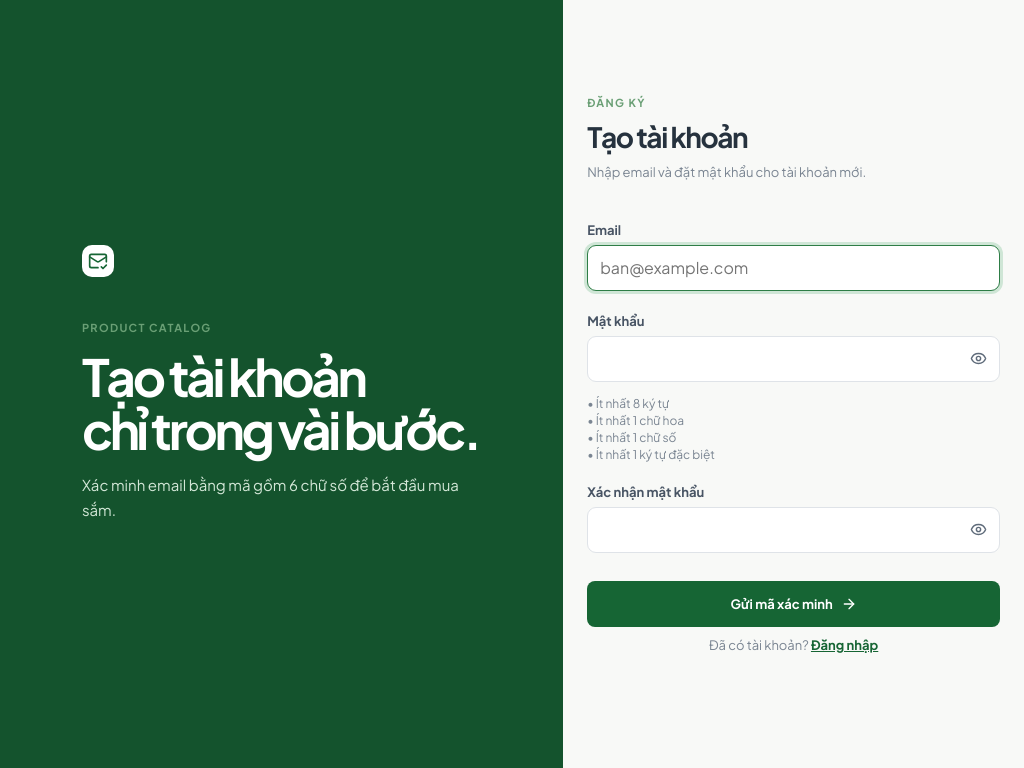
Test: RegisterPage › only accepts digits and keeps submit disabled until there are six
In the field labelled "Email": point(794, 268) [587,244,1000,290], type "new@example.com"
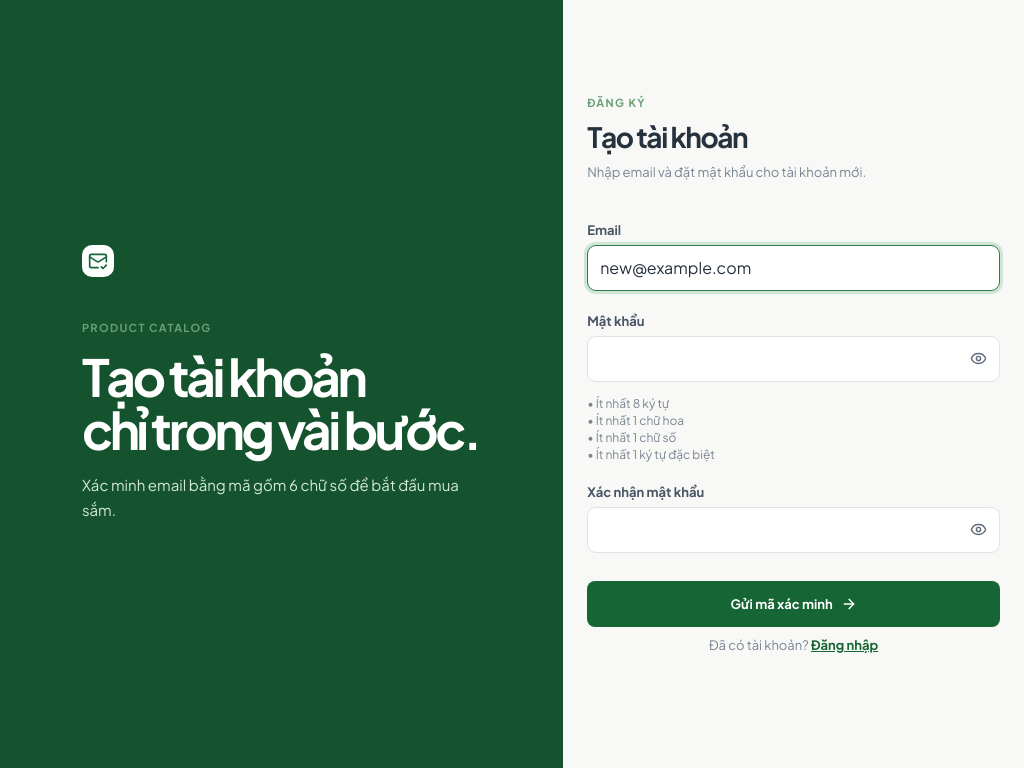
In the password field labelled "Mật khẩu": point(794, 358) [587,336,1000,382], type "Str0ng!Passw0rd"
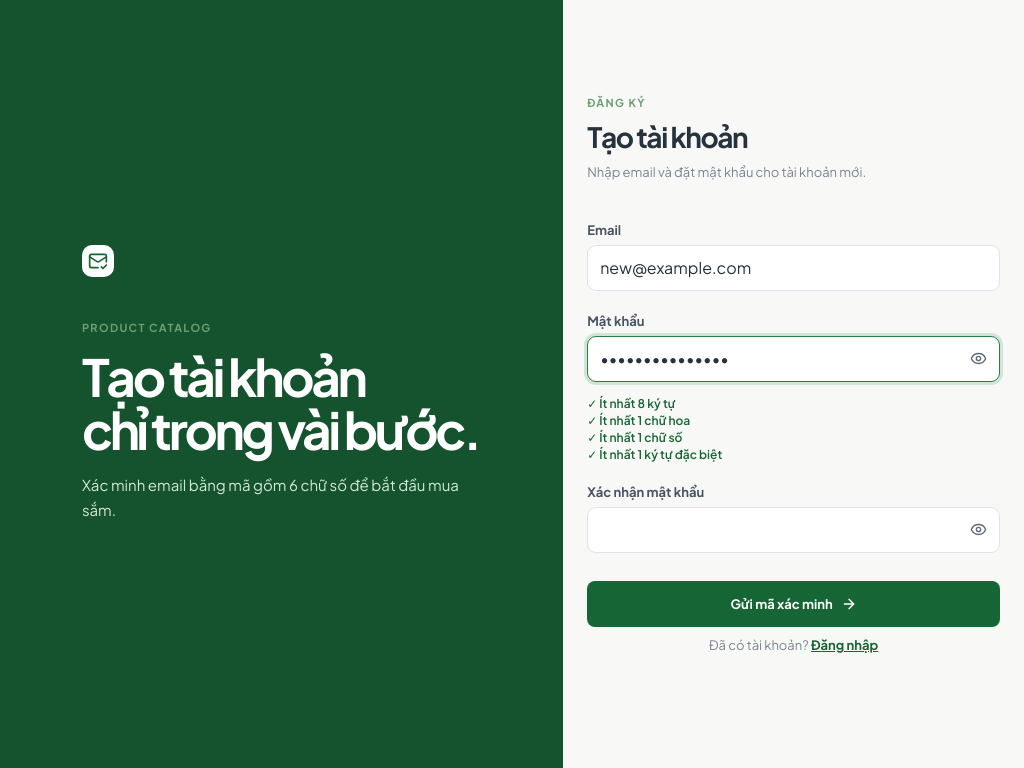
In the password field labelled "Xác nhận mật khẩu": point(794, 530) [587,506,1000,552], type "Str0ng!Passw0rd"
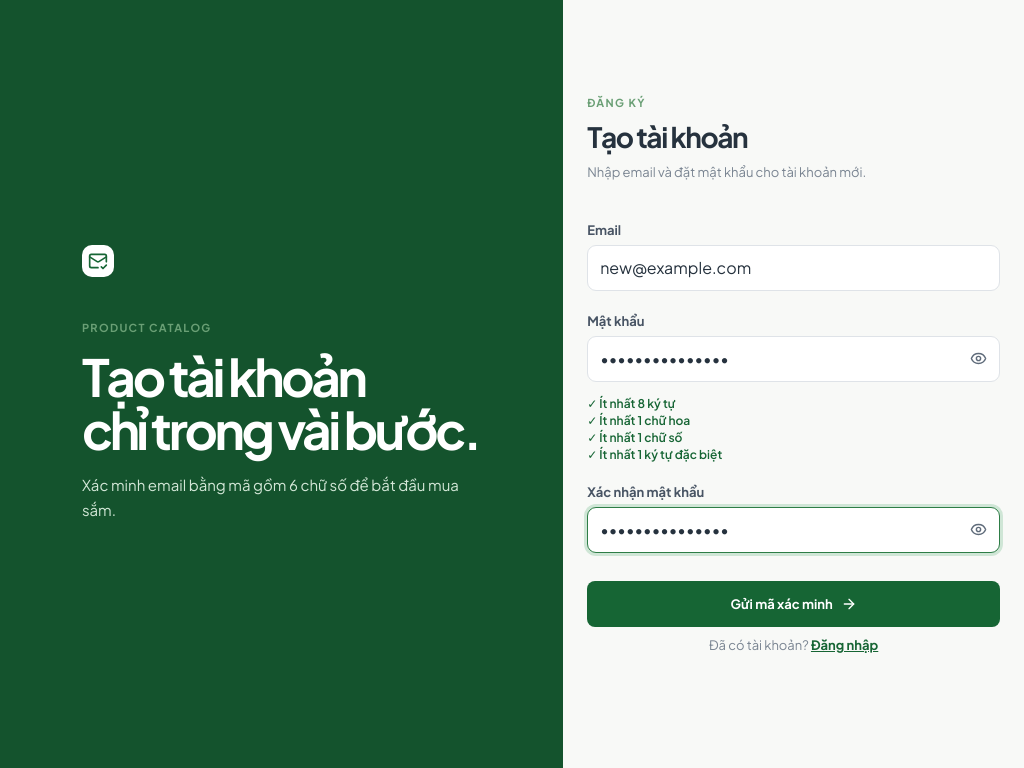
Click the button "Gửi mã xác minh": point(794, 604) [587,580,1000,626]
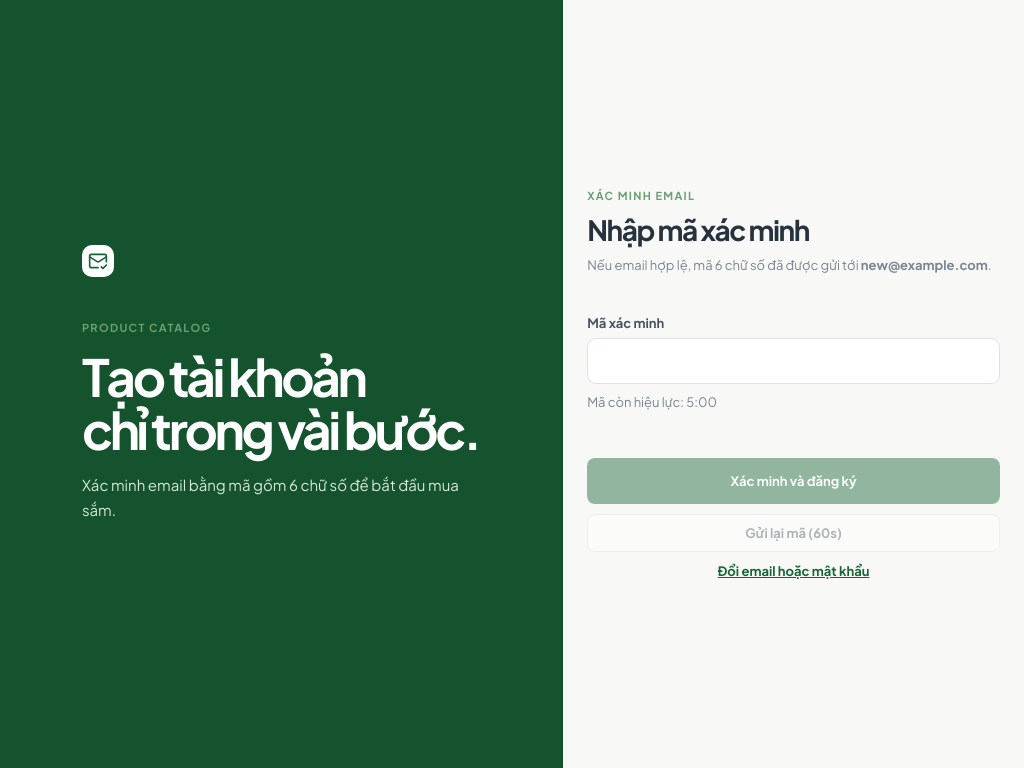
Expected: the heading "Nhập mã xác minh" is shown, [587,212,809,246]
In the field labelled "Mã xác minh": point(794, 360) [587,338,1000,384], type "12ab3"
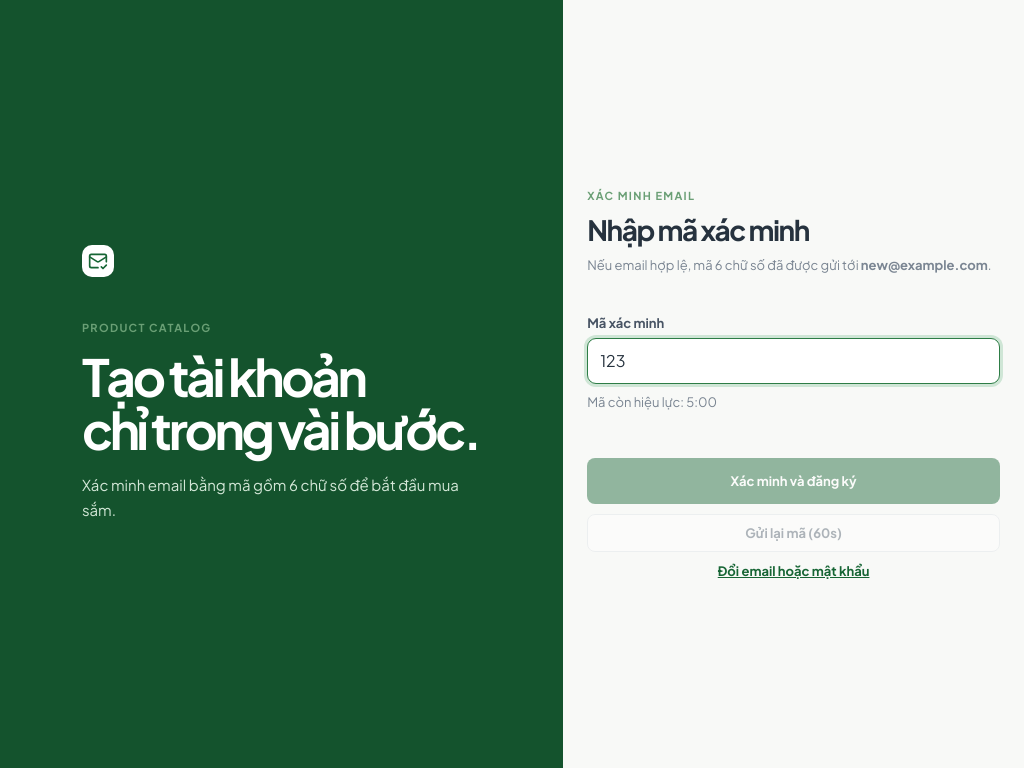
Expected: the button "Xác minh và đăng ký" is disabled, [587,458,1000,504]
Expected: the field labelled "Mã xác minh" holds "123"
In the field labelled "Mã xác minh": point(794, 360) [587,338,1000,384], type "456"
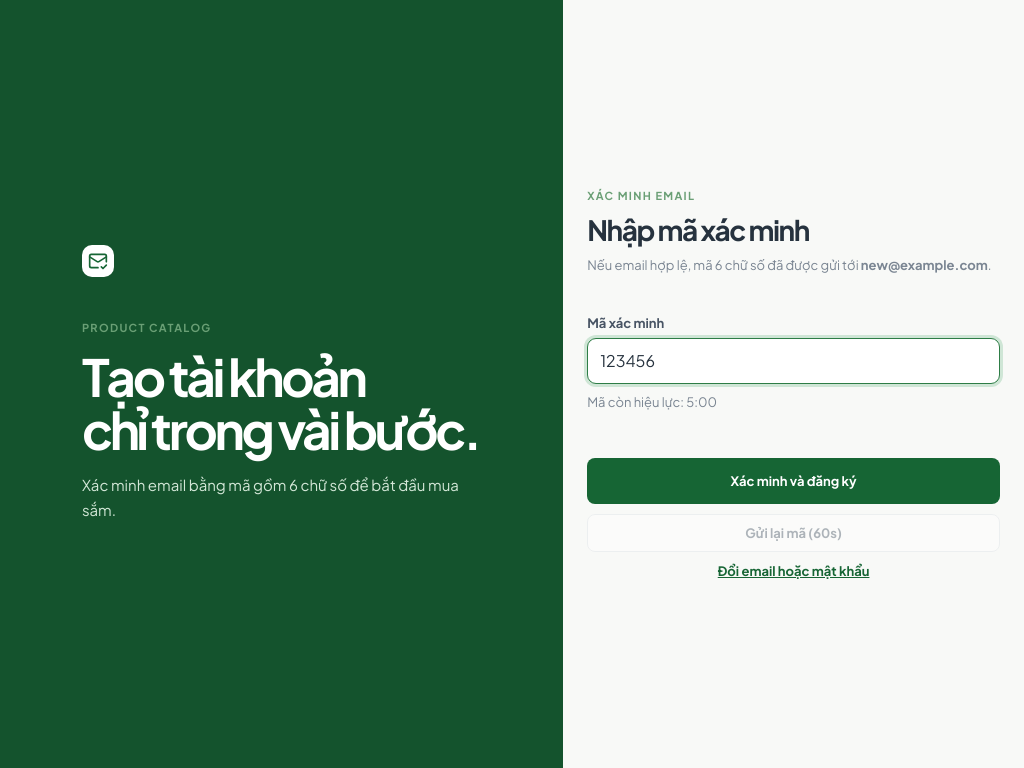
Expected: the button "Xác minh và đăng ký" is enabled, [587,458,1000,504]
